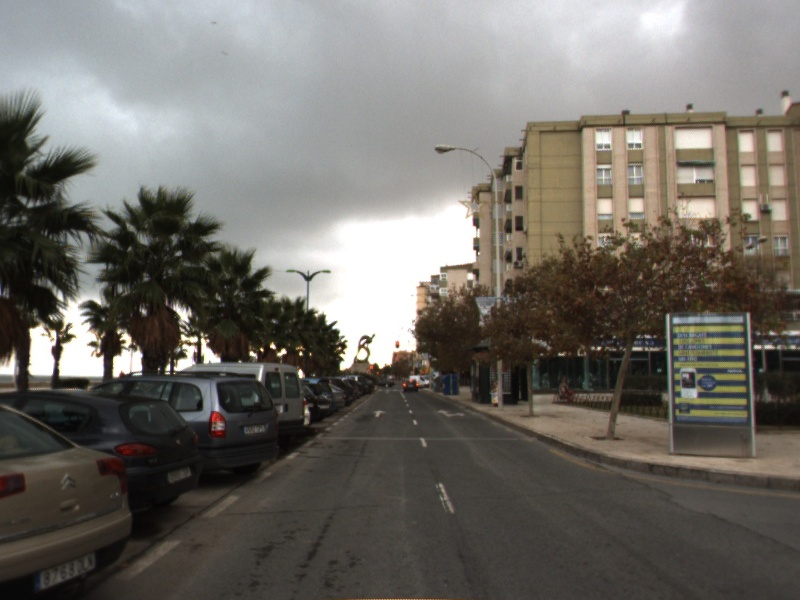STRAIGHT: (370, 408, 388, 419)
STRAIGHT_RIGHT: (435, 407, 468, 419)
